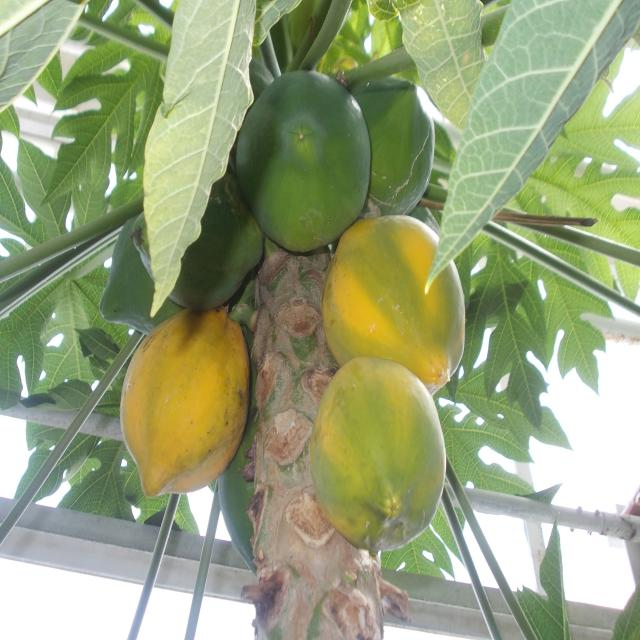Pepaya rippen: (298, 356, 458, 557), (327, 210, 479, 395), (125, 304, 255, 501)
Pepaya unrippen: (229, 45, 373, 248)
